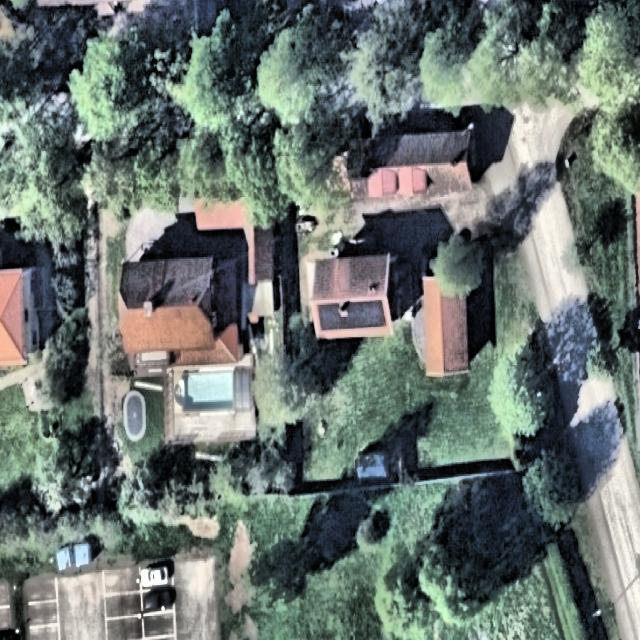roof_pv: (316, 297, 388, 336)
